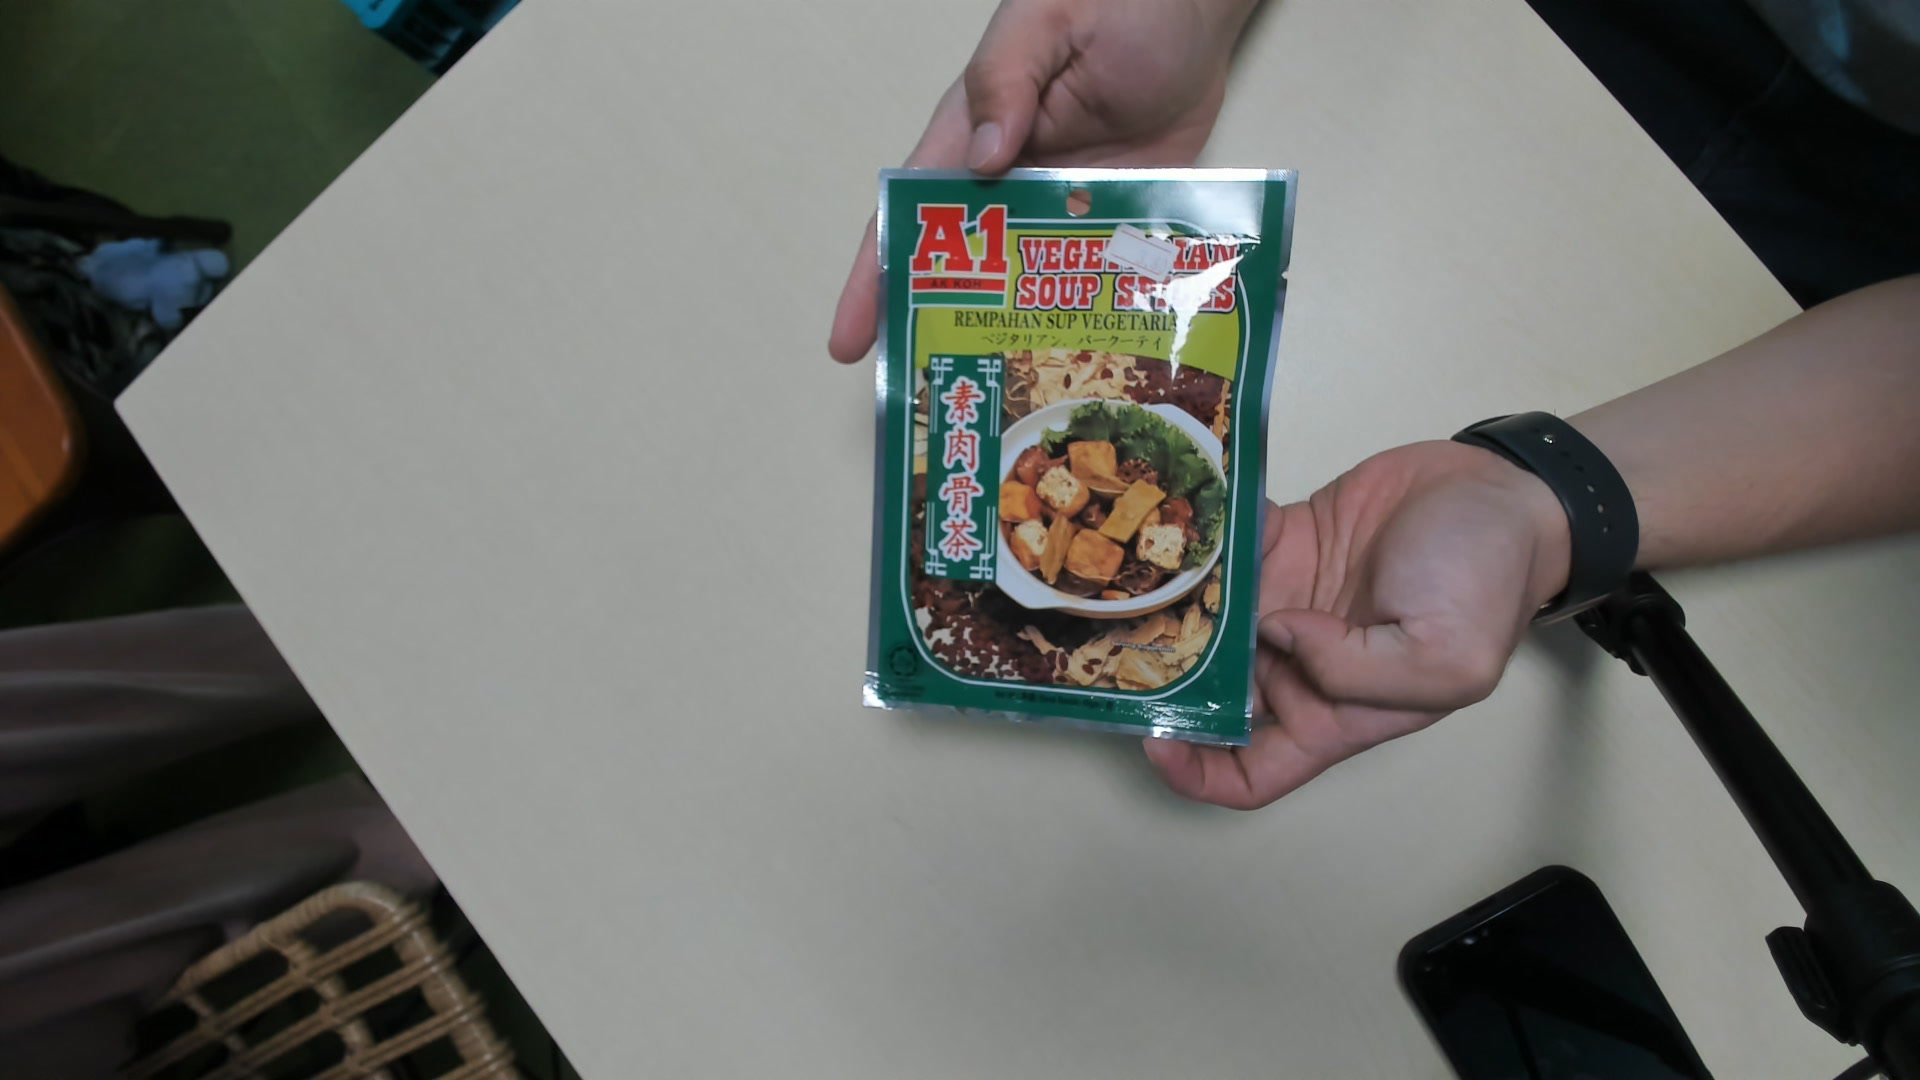OtherSauceDressing_0-99g_NonHalal_NonHealthy: (872, 171, 1288, 746)
